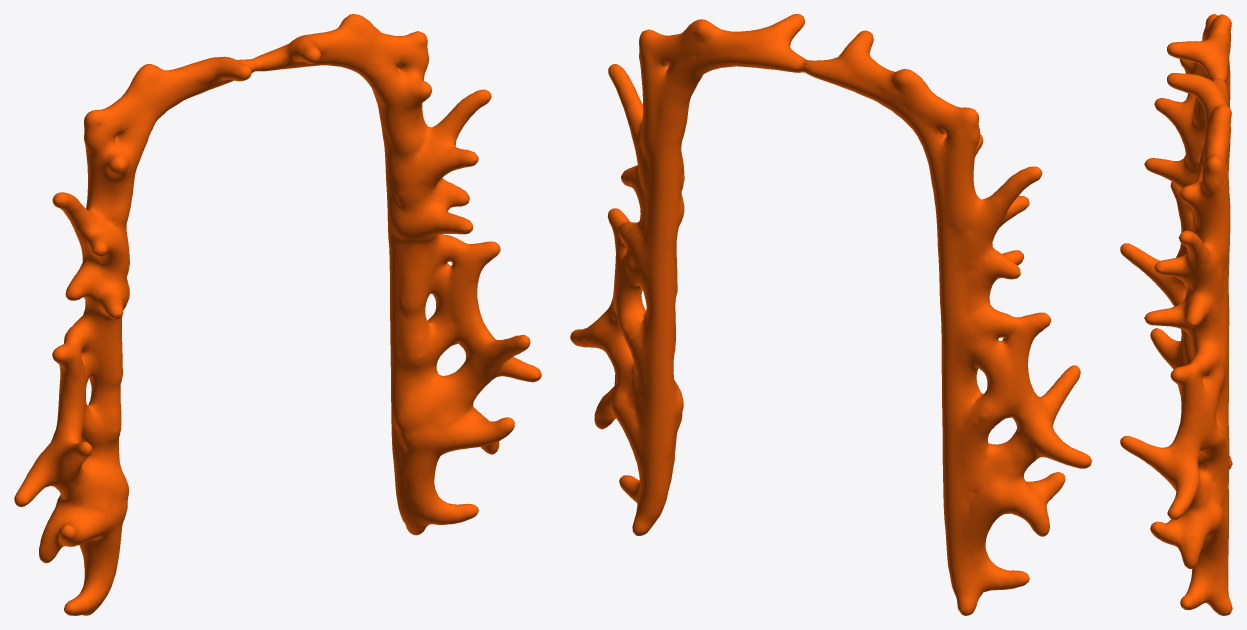
File: Trickster-Erratic-doorway-right.glb
3 renders of one model, left to right at view 1: azimuth 30°, elevation 25°; view 2: azimuth 150°, elevation 25°; view 3: azimuth 270°, elevation 25°, orthographic. The views are drawn at different scales.
Visible parts, largest first — view 1: Volume Line.005; view 2: Volume Line.005; view 3: Volume Line.005.
Part boxes in pixels (x1=…): Volume Line.005: x1=14, y1=14, x2=541, y2=615; Volume Line.005: x1=570, y1=14, x2=1091, y2=615; Volume Line.005: x1=1120, y1=14, x2=1232, y2=615.
Size of the model in its own units: 1.06 by 1.04 by 0.2187.
